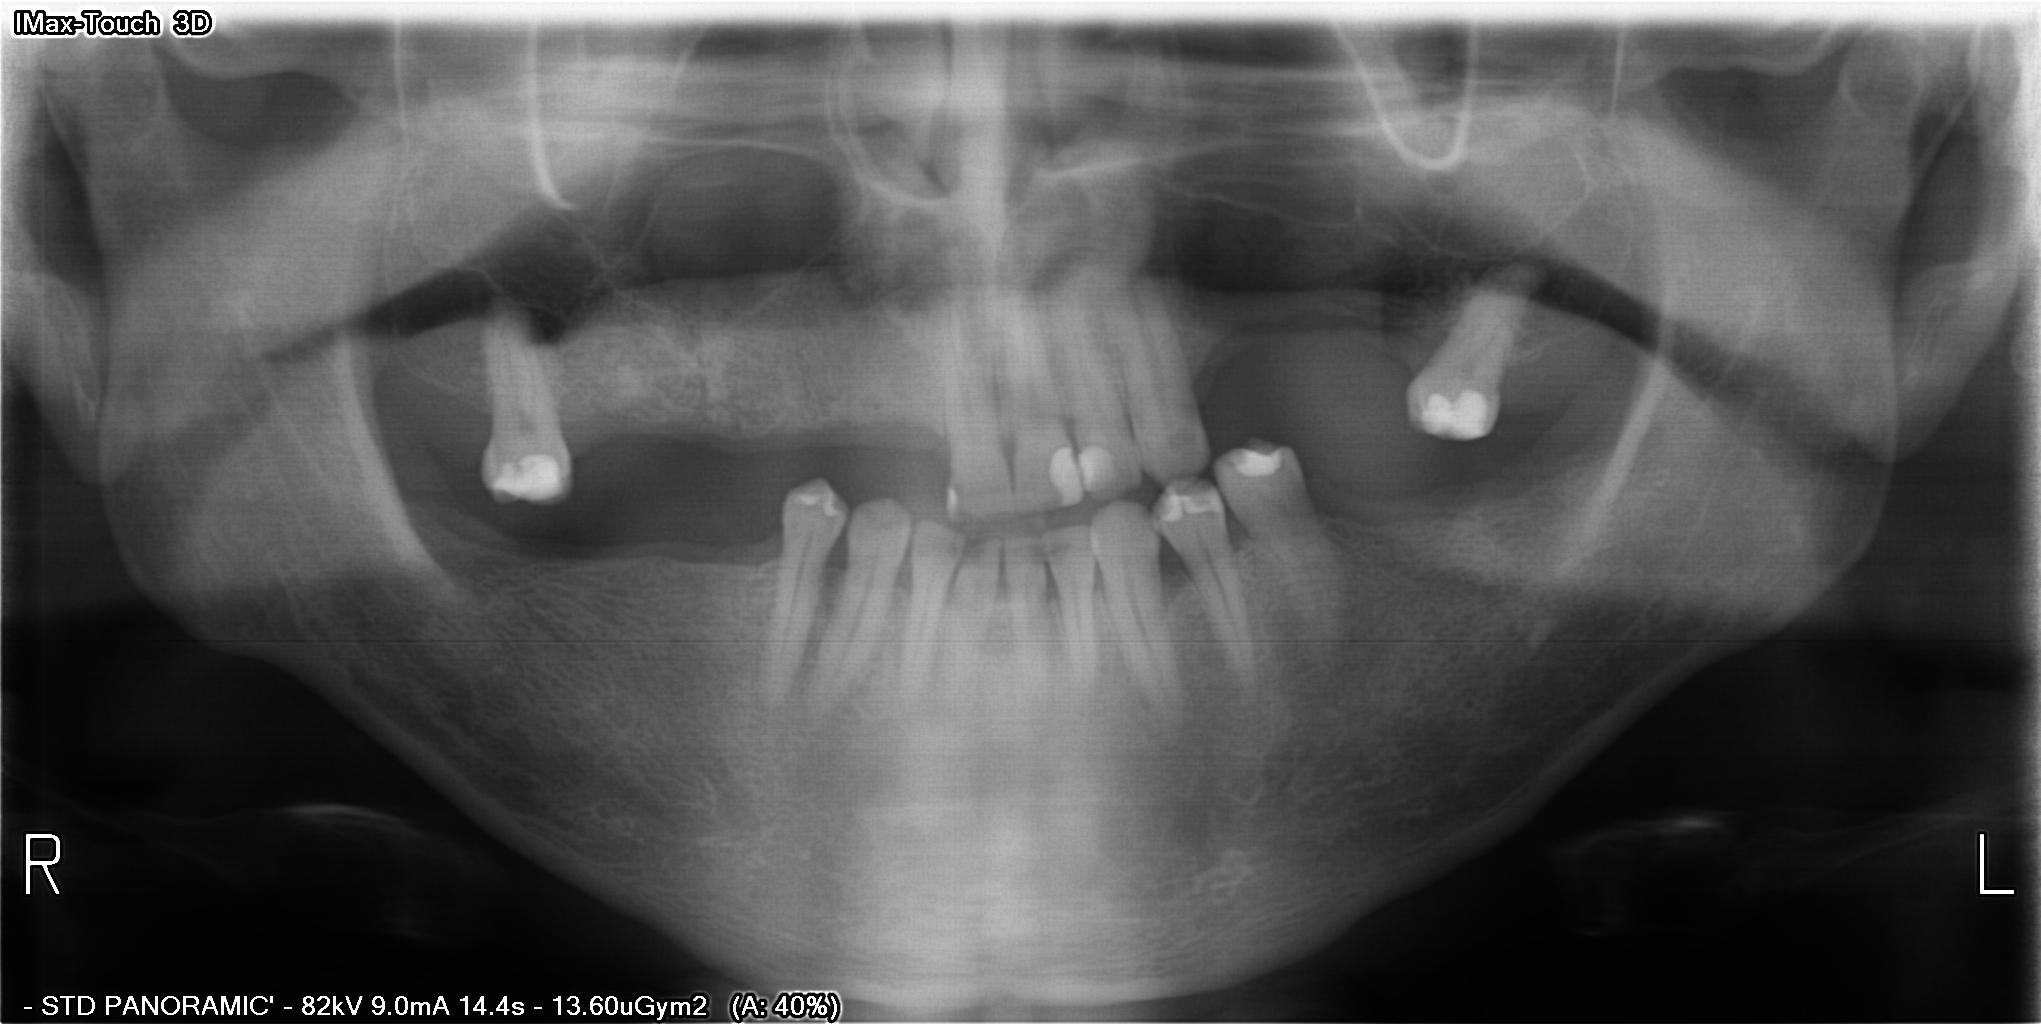Çürük: (487, 452, 578, 504), (1426, 380, 1500, 444), (1043, 445, 1110, 498), (1161, 481, 1234, 516), (1237, 441, 1284, 477), (936, 485, 961, 524)
Çürük Bölgesi: (1026, 543, 1073, 563)
